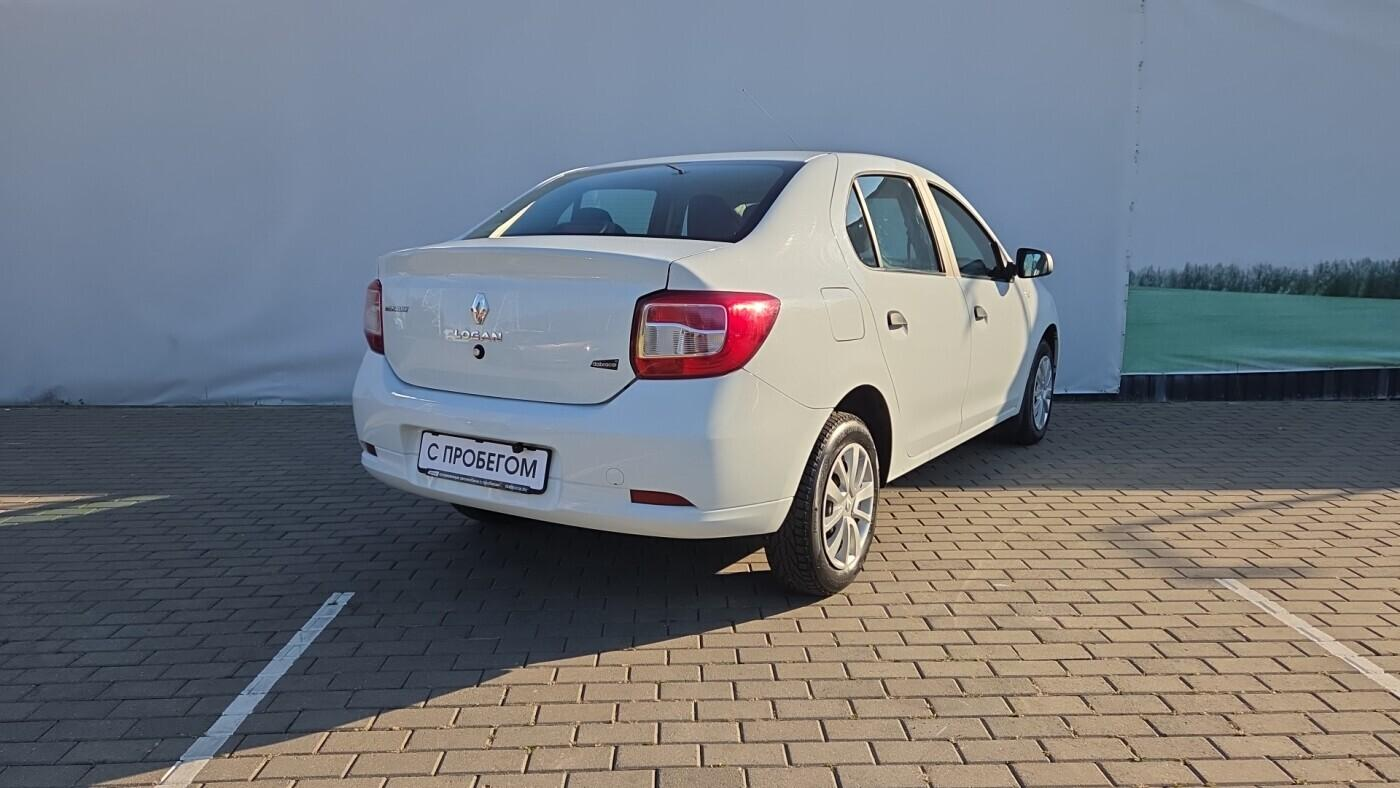Logan_2018: (341, 146, 1068, 590)
